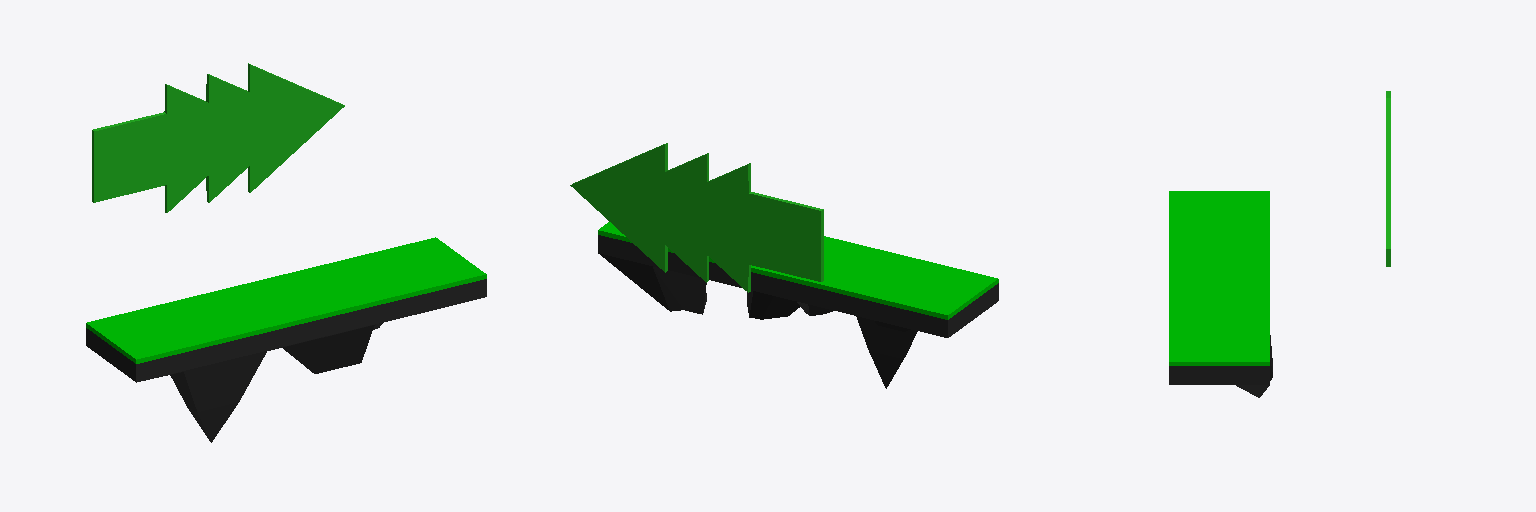
The model's file is Speed1Model.obj.
The picture shows the model from 3 angles: view 1: azimuth 30°, elevation 25°; view 2: azimuth 150°, elevation 25°; view 3: azimuth 270°, elevation 25°; orthographic projection.
Visible parts, largest first — view 1: rocky_platform:Mesh, Arrow:group3_pasted__group1_pasted__pasted__pCube1; view 2: rocky_platform:Mesh, Arrow:group3_pasted__group1_pasted__pasted__pCube1; view 3: rocky_platform:Mesh, Arrow:group3_pasted__group1_pasted__pasted__pCube1.
Boxes of the visible parts, x1=… form: rocky_platform:Mesh: x1=86, y1=237, x2=486, y2=442; Arrow:group3_pasted__group1_pasted__pasted__pCube1: x1=92, y1=63, x2=344, y2=212; rocky_platform:Mesh: x1=598, y1=222, x2=998, y2=388; Arrow:group3_pasted__group1_pasted__pasted__pCube1: x1=570, y1=143, x2=823, y2=292; rocky_platform:Mesh: x1=1169, y1=191, x2=1272, y2=397; Arrow:group3_pasted__group1_pasted__pasted__pCube1: x1=1386, y1=91, x2=1390, y2=266.
Bounding box in the file's own units: 4 × 3.07 × 2.19.